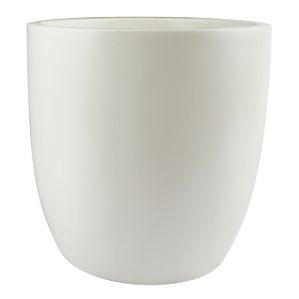flowerpot: (26, 16, 272, 285)
